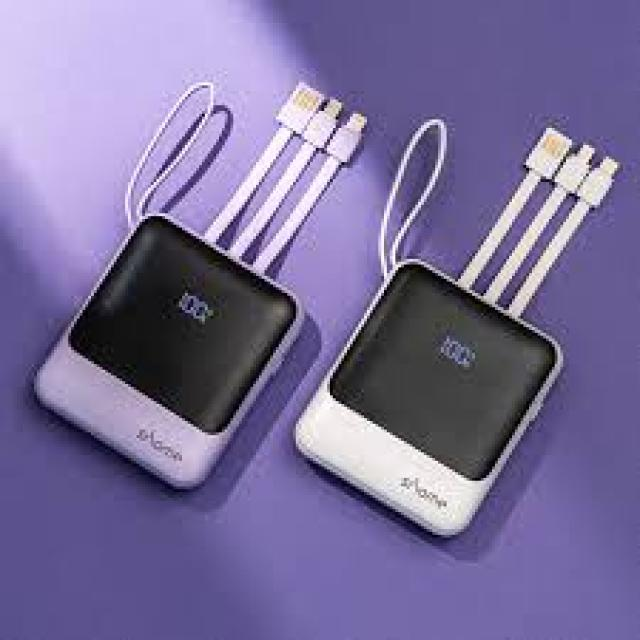portable-charger: (27, 211, 305, 502), (295, 260, 563, 545)
